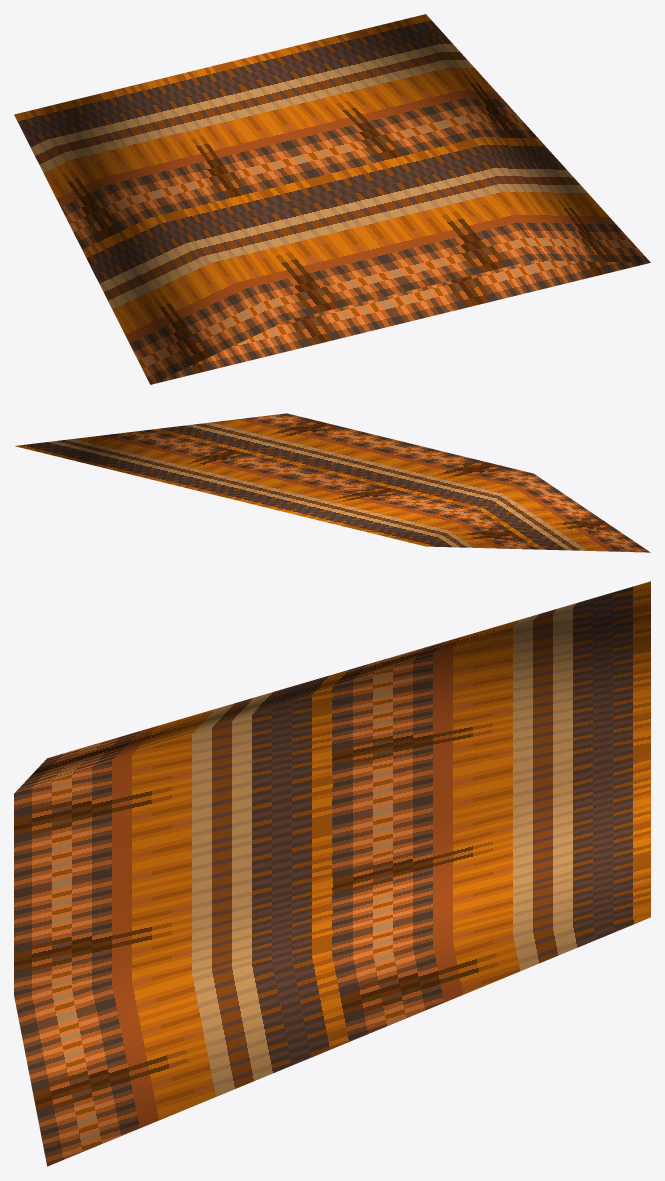
Rendered from 2353skirt00_r.gltf.
3 views of the same model, one above another, from view 1: azimuth 30°, elevation 25°; view 2: azimuth 150°, elevation 25°; view 3: azimuth 270°, elevation 25° (orthographic). The views are drawn at different scales.
Parts seen in each view (by area): view 1: 2353skirt00_r; view 2: 2353skirt00_r; view 3: 2353skirt00_r.
Boxes of the visible parts, box(x1,y1,x2,y2) form: 2353skirt00_r: box(14, 14, 650, 384); 2353skirt00_r: box(15, 413, 650, 552); 2353skirt00_r: box(14, 581, 650, 1166).
Bounding box in the file's own units: 0.9868 × 0.24 × 0.6504.
1 material, 1 textured.
